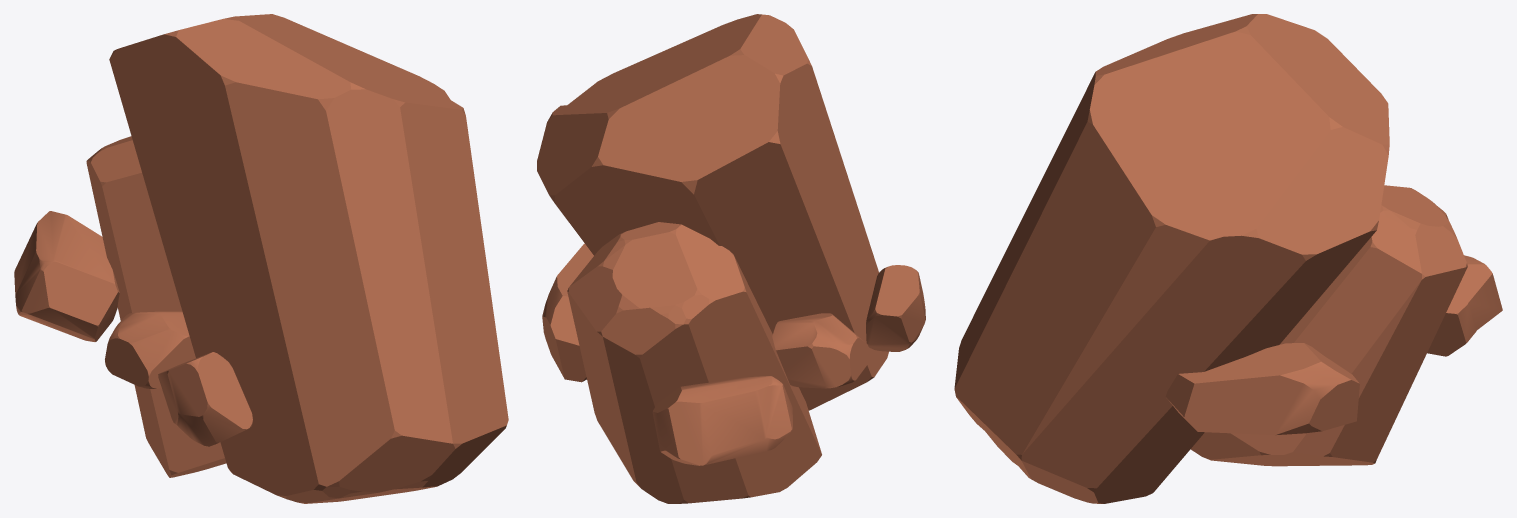
The model's file is RockPack_03.fbx.
3 renders of one model, left to right at view 1: azimuth 30°, elevation 25°; view 2: azimuth 150°, elevation 25°; view 3: azimuth 270°, elevation 25°, orthographic. The views are drawn at different scales.
Parts seen in each view (by area): view 1: RockPack_03; view 2: RockPack_03; view 3: RockPack_03.
Boxes of the visible parts, bbox=[...] form: RockPack_03: bbox=[14, 14, 508, 503]; RockPack_03: bbox=[537, 14, 925, 503]; RockPack_03: bbox=[954, 14, 1502, 503].
Size of the model in its own units: 417 by 543 by 606.
